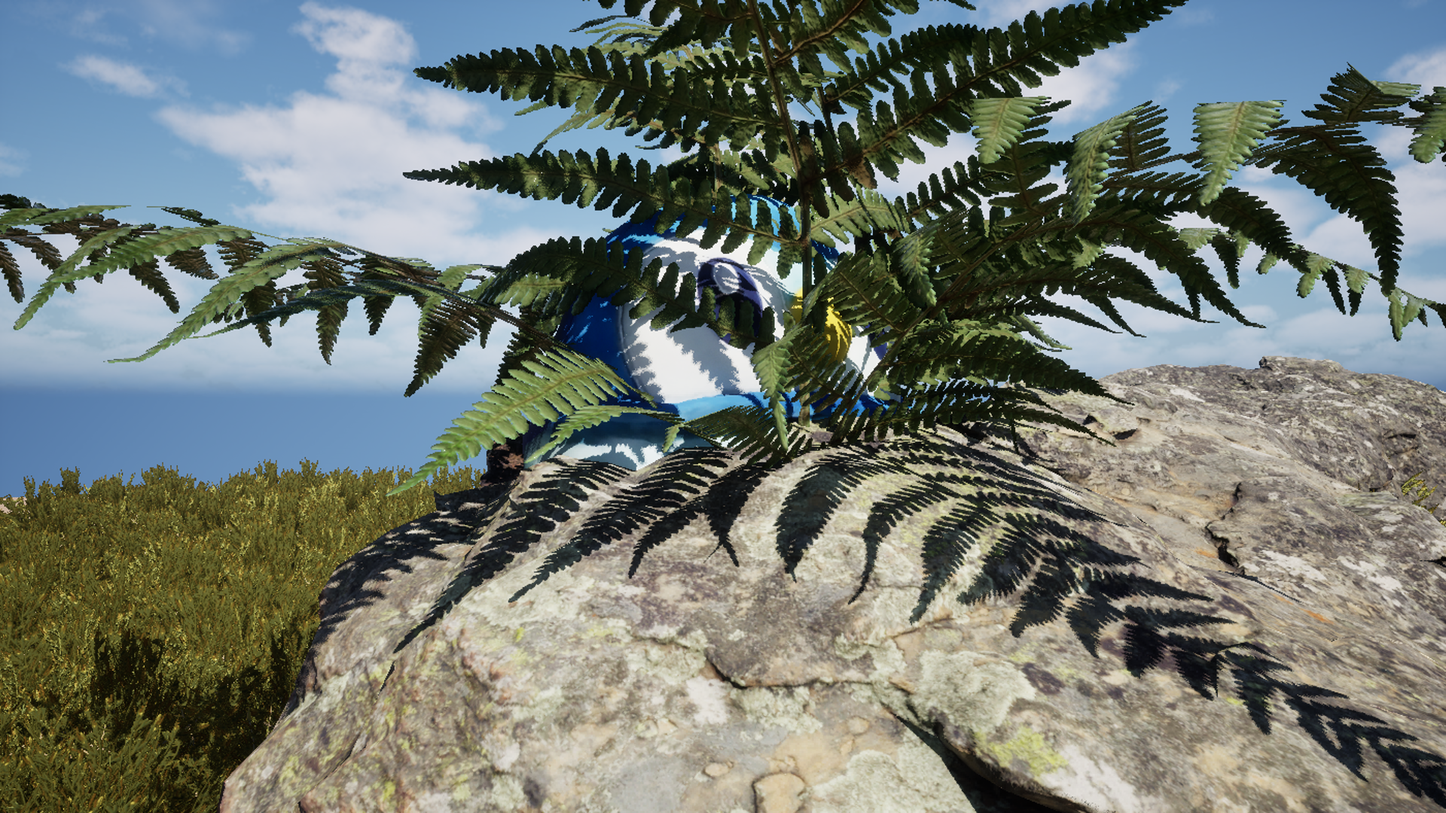Piplup: (385, 78, 1130, 735)
